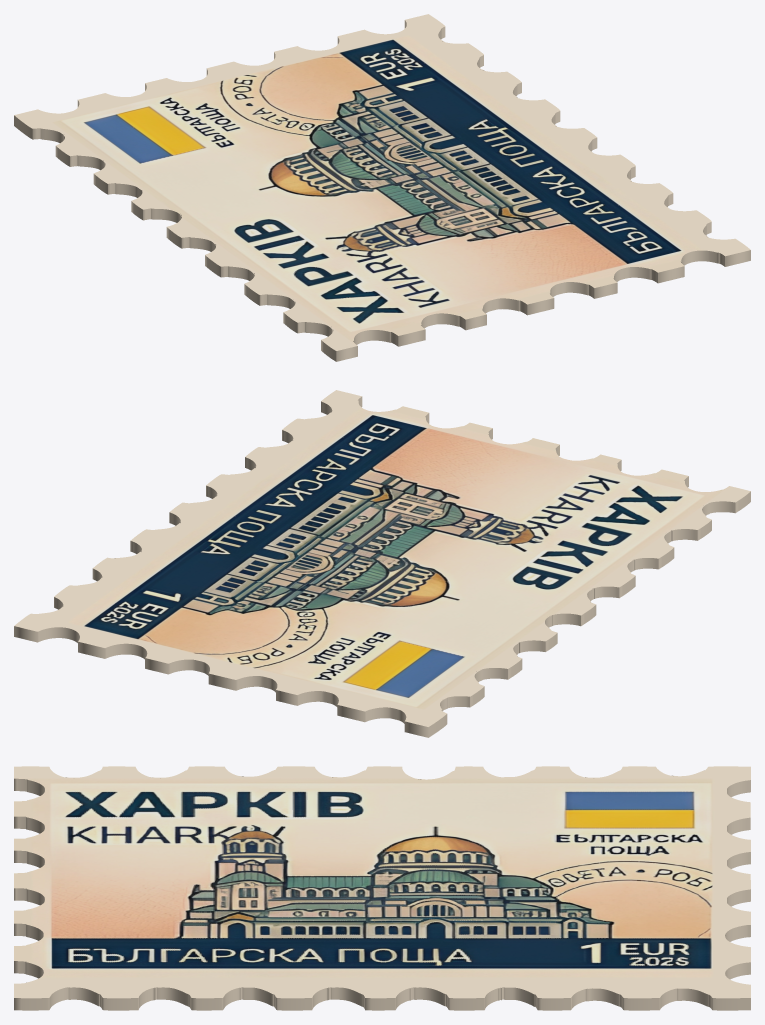
Rendered from Card_Harkiv.glb.
3 views of the same model, one above another, from view 1: azimuth 30°, elevation 25°; view 2: azimuth 150°, elevation 25°; view 3: azimuth 270°, elevation 25° (orthographic). The views are drawn at different scales.
Visible parts, largest first — view 1: Curve; view 2: Curve; view 3: Curve.
Part boxes in pixels (x1,y1,x2,y2): Curve: [14, 14, 750, 361]; Curve: [14, 390, 750, 737]; Curve: [14, 766, 750, 1010].
Size of the model in its own units: 124 by 3.07 by 167.
Materials: 1 (1 with a texture image).
